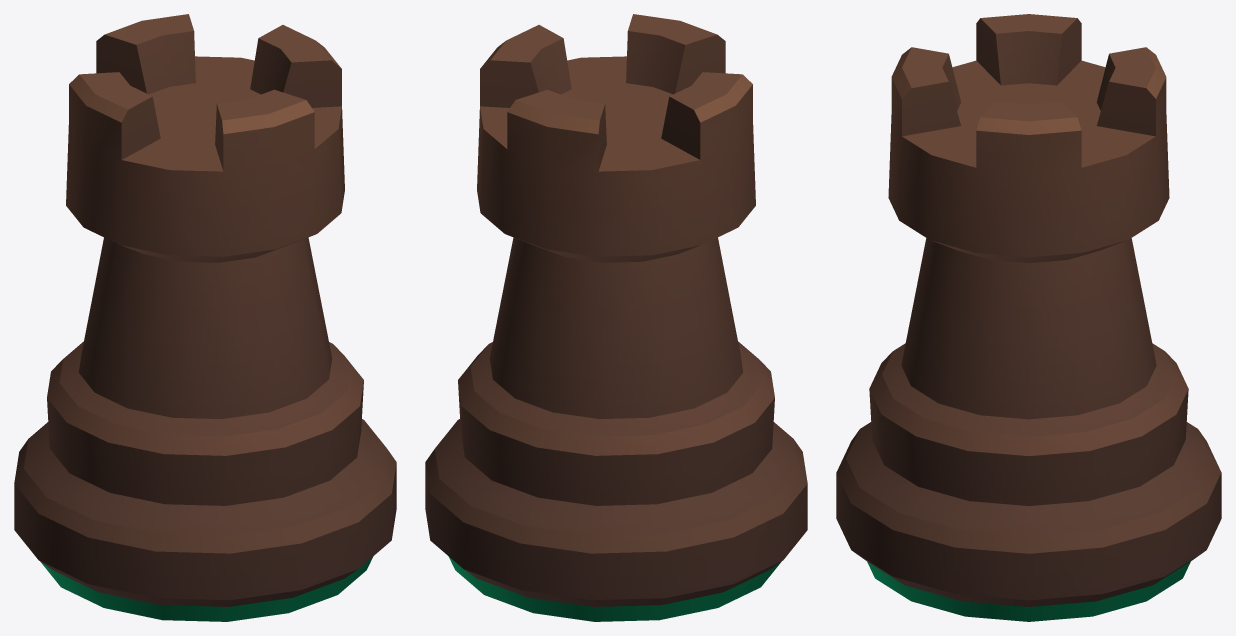
Rendered from chess_black_rook.obj.
3 renders of one model, left to right at view 1: azimuth 30°, elevation 25°; view 2: azimuth 150°, elevation 25°; view 3: azimuth 270°, elevation 25°, orthographic.
Parts seen in each view (by area): view 1: chess_black_rook; view 2: chess_black_rook; view 3: chess_black_rook.
Boxes of the visible parts, x1,y1,x2,y2 form: chess_black_rook: (14, 14, 396, 621); chess_black_rook: (425, 14, 807, 621); chess_black_rook: (836, 14, 1221, 621).
Bounding box in the file's own units: 0.75 × 1.04 × 0.75.
Materials: 1 (1 with a texture image).
